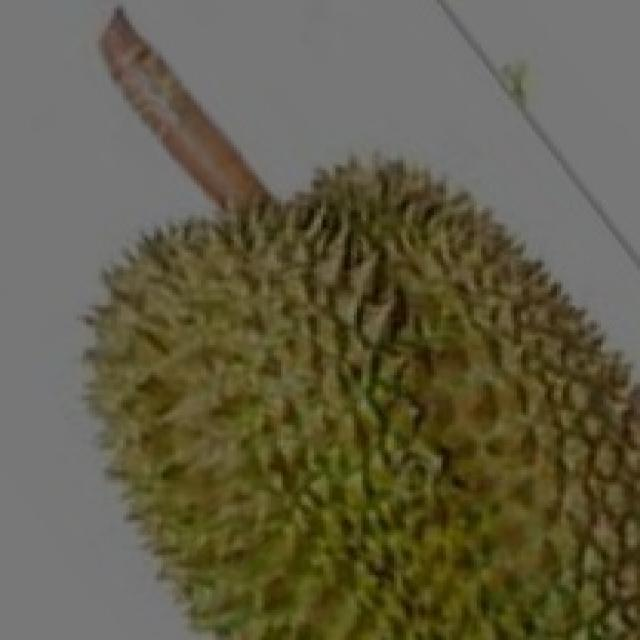fruit: (18, 205, 394, 637), (295, 270, 640, 640)
